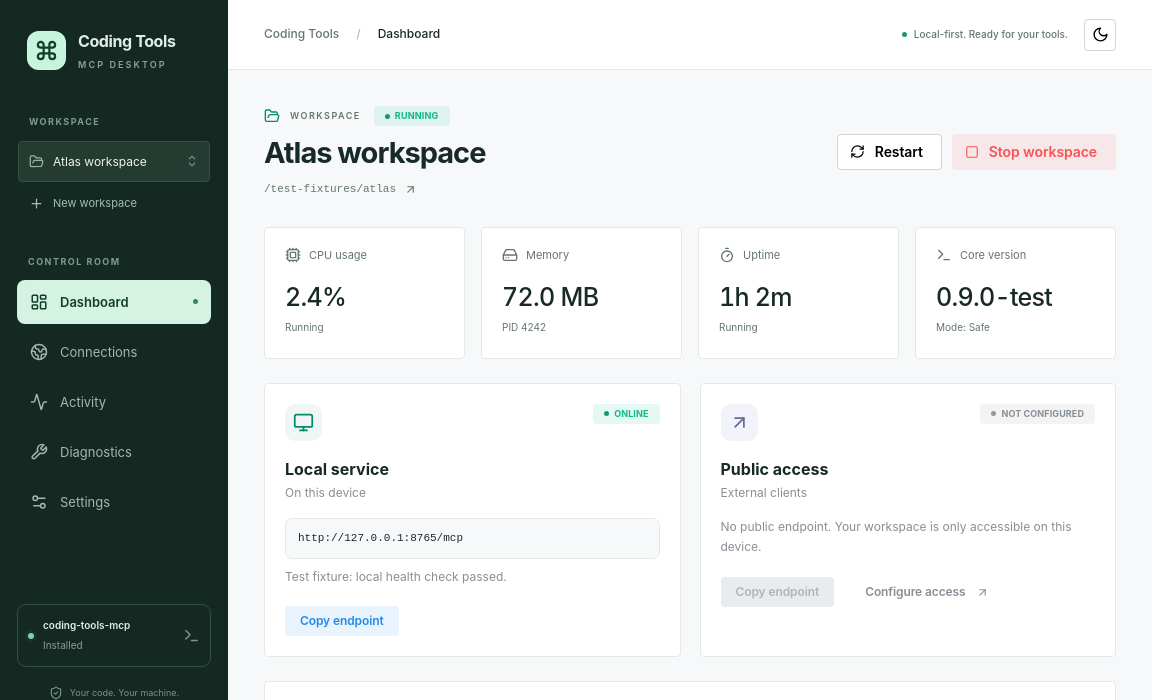
it: desktop interrupted and delayed IPC flows › ignores an old log request's late success after switching log tabs
This screenshot has width=1152, height=700.
Step 1. Click the button "Diagnostics" → [114, 452], box left=17, top=430, right=211, bottom=474
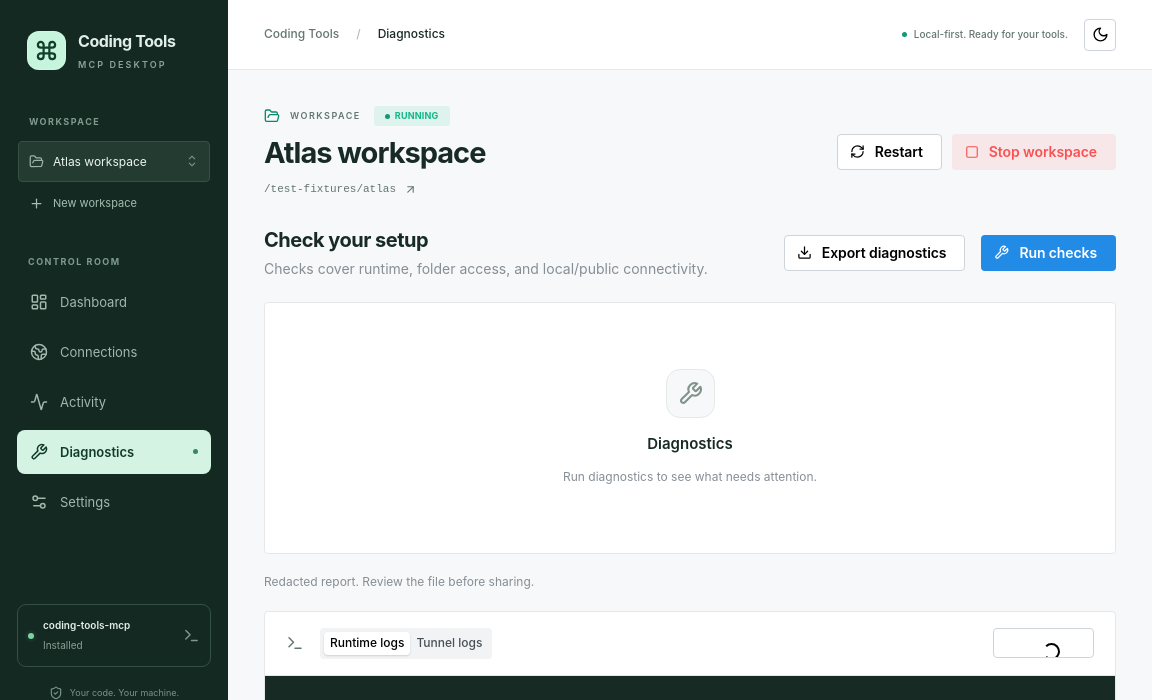
Step 2. Click the radio button labelled "Tunnel logs" → [449, 643], box left=416, top=635, right=482, bottom=650
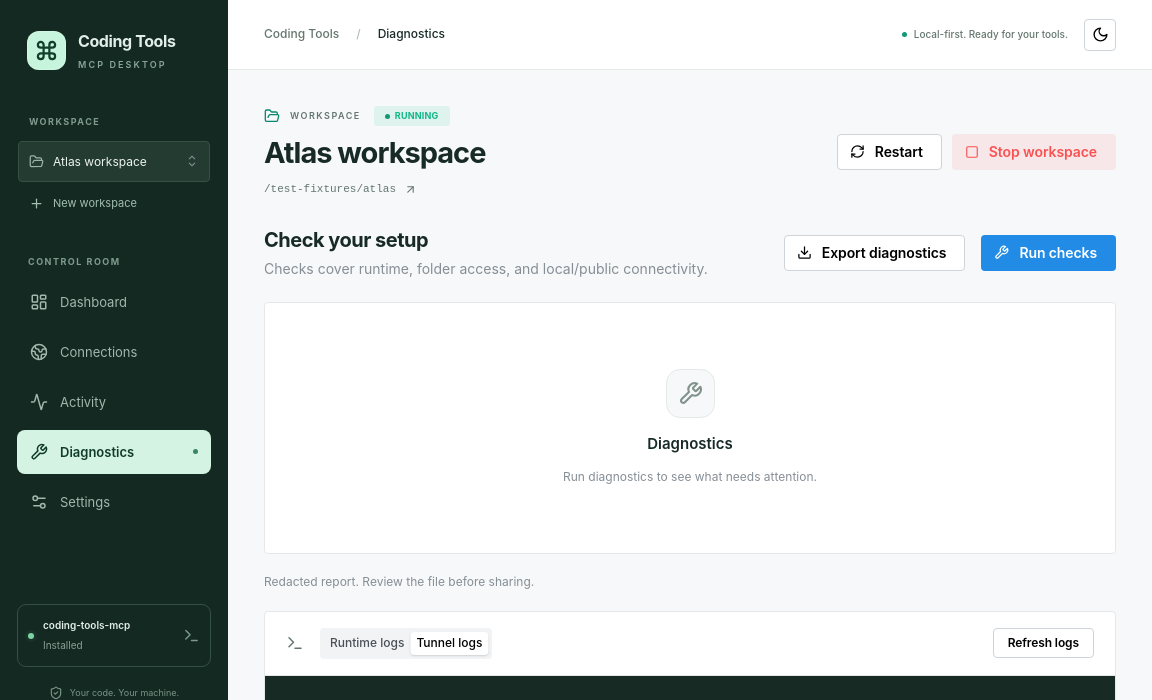
Check: the button "Refresh logs" is enabled, box left=993, top=628, right=1094, bottom=658
